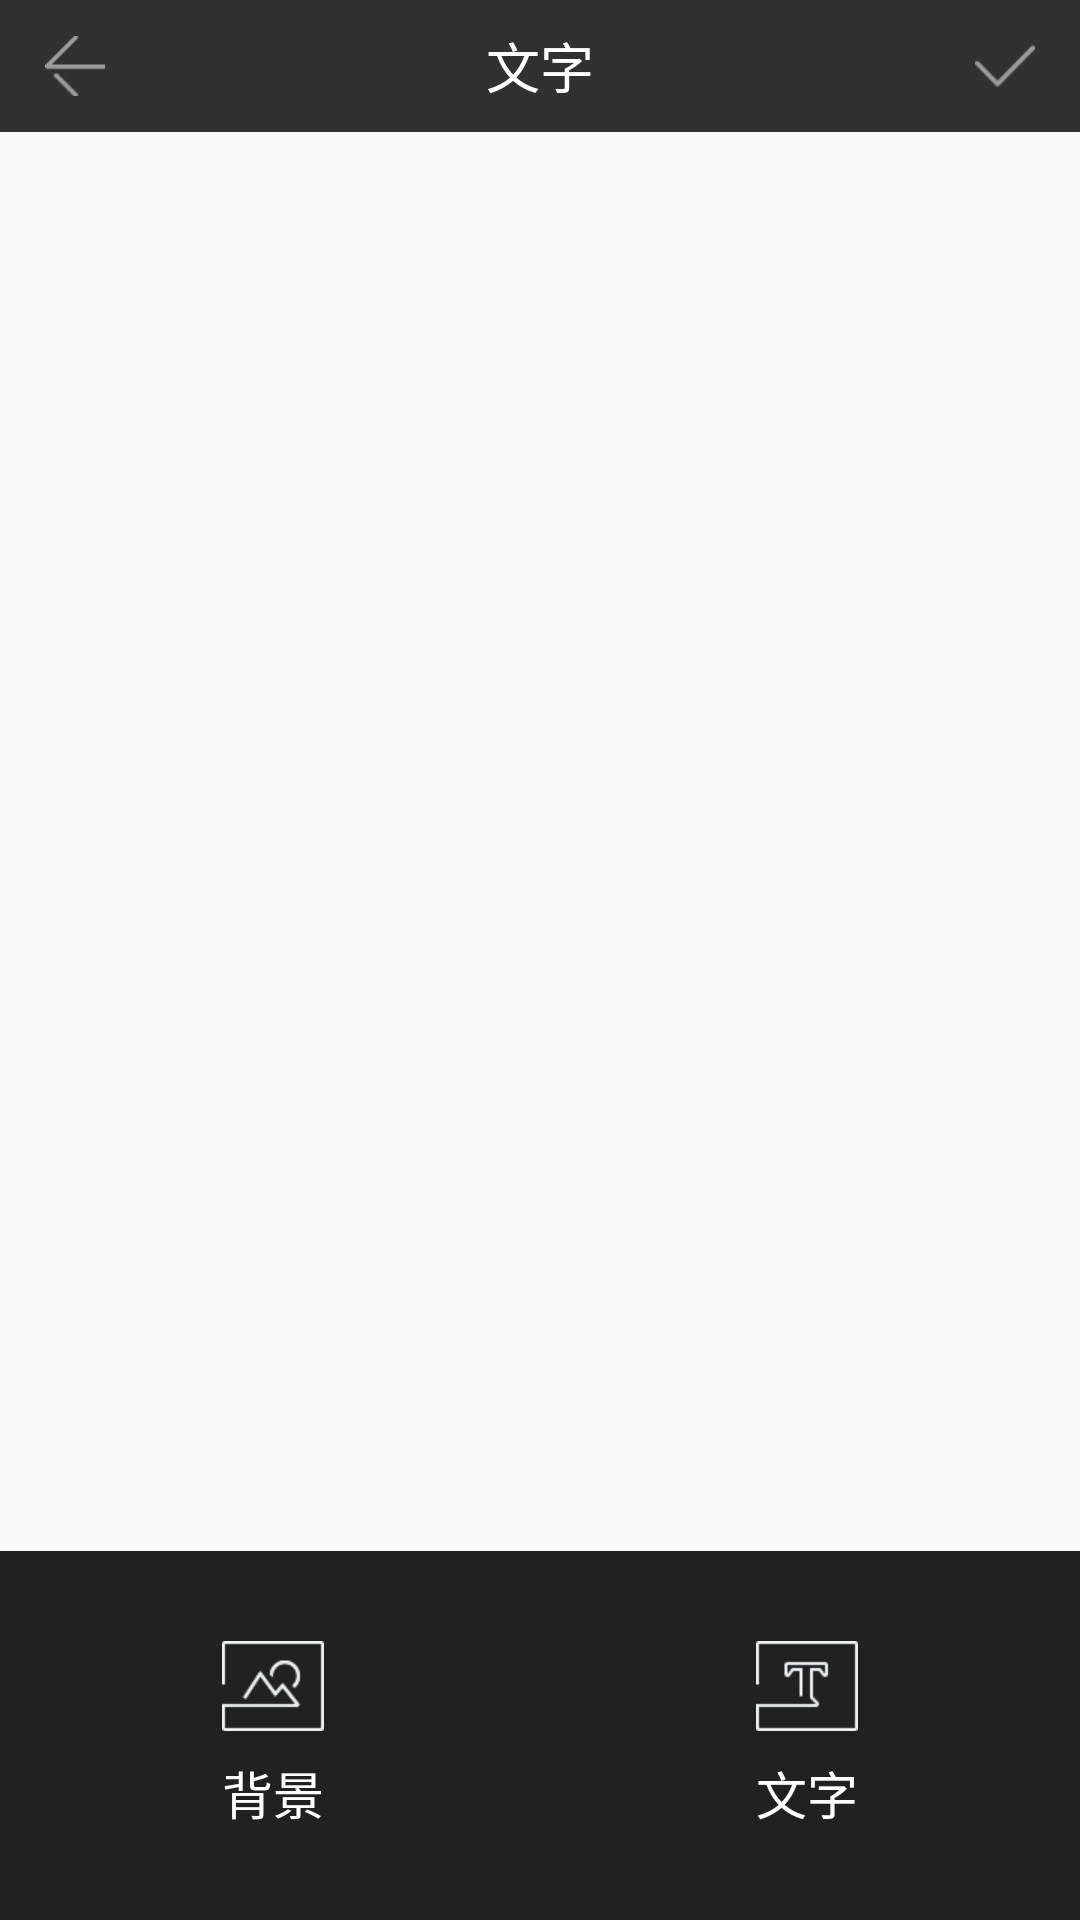

Where icons sit on this 1080×1920 app screen, as (x1, y1, x2, y2):
title back: (45, 36, 105, 96)
title done: (975, 45, 1035, 87)
